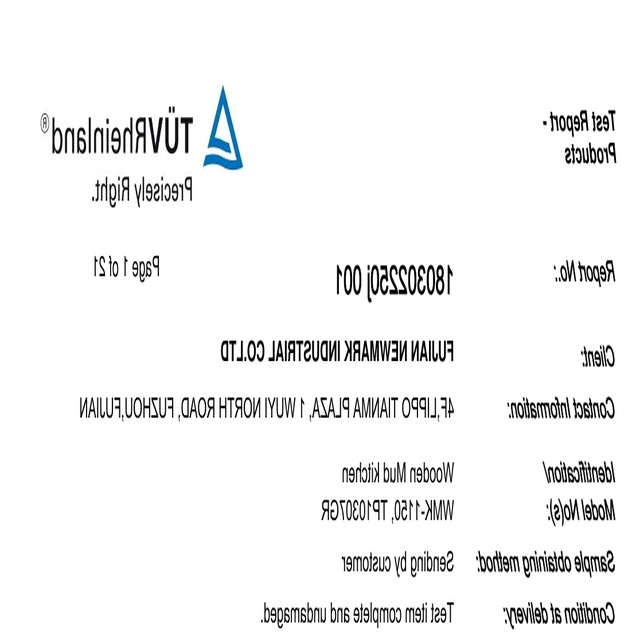tuv_rheinland: (32, 83, 247, 178)
